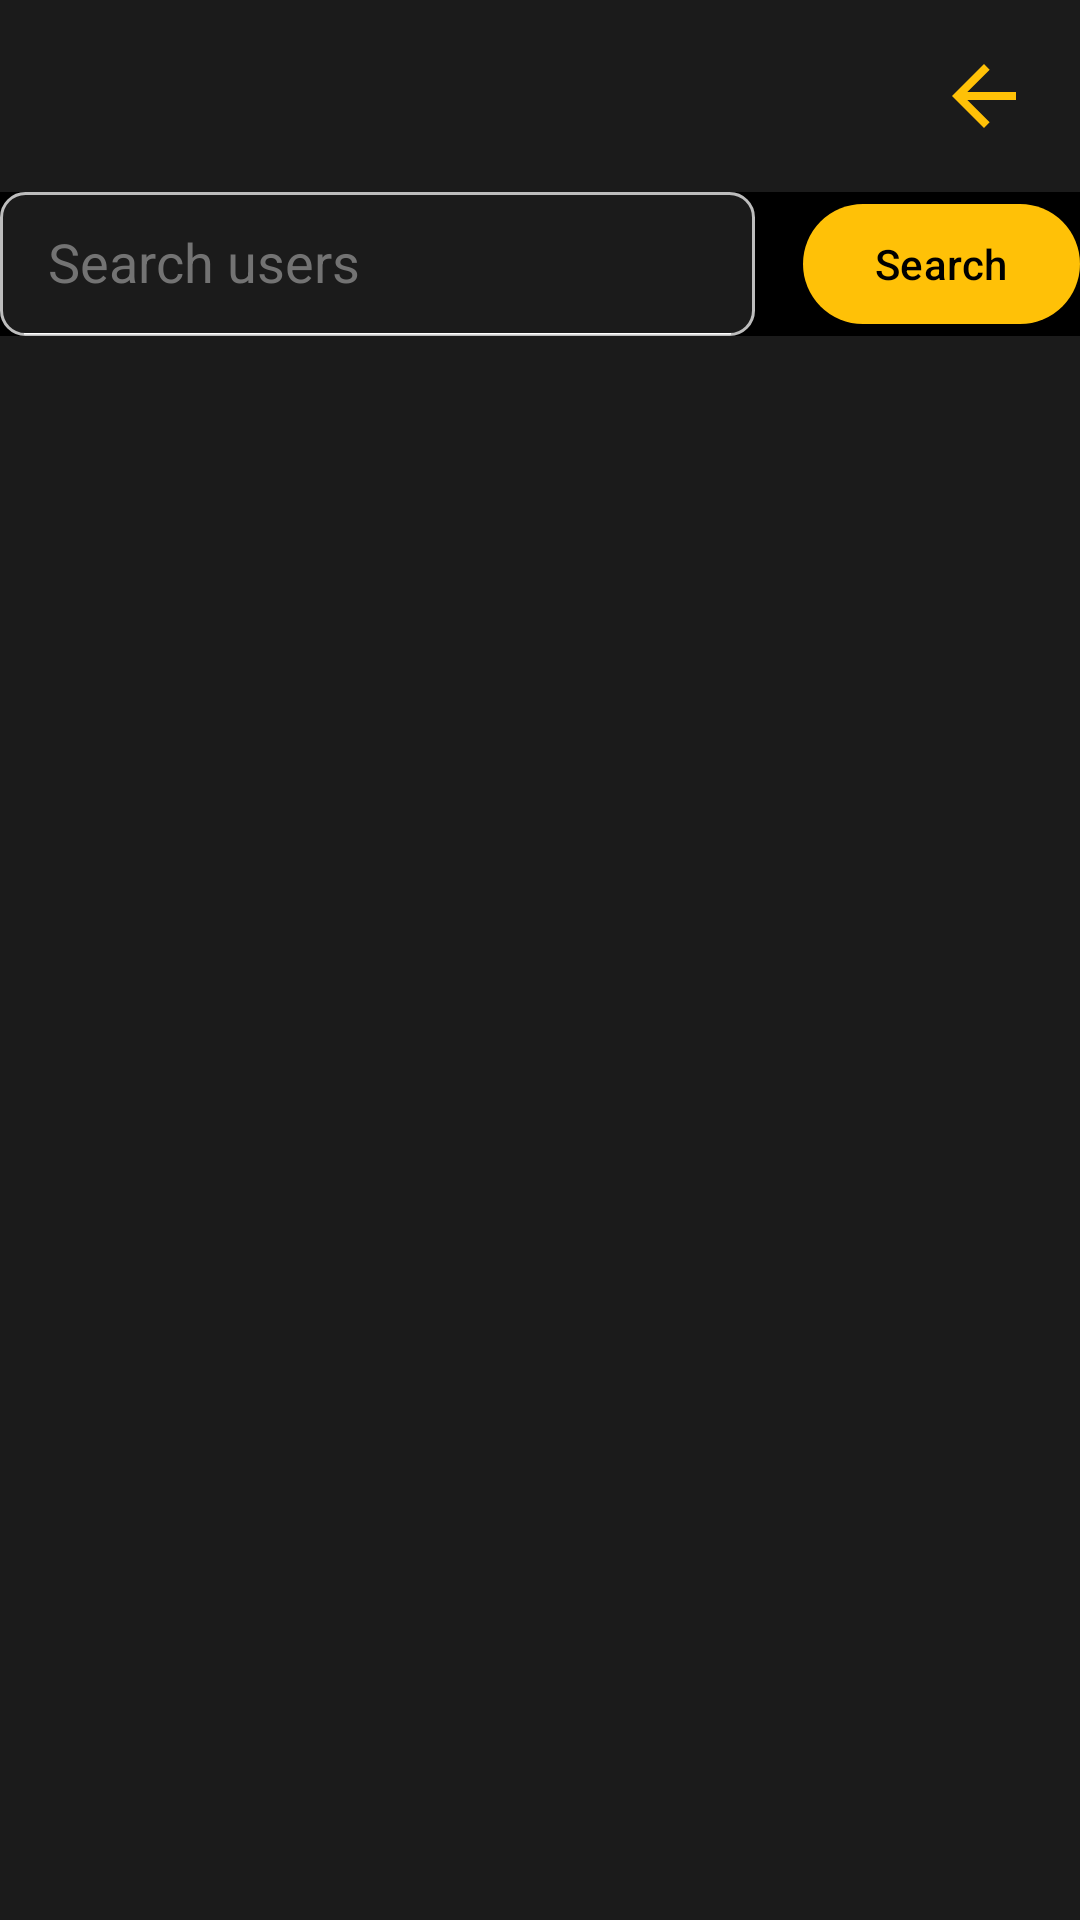

Icon click points for this 1080 x 1920 phone screenshot, format (x,y):
Back: (984,96)
